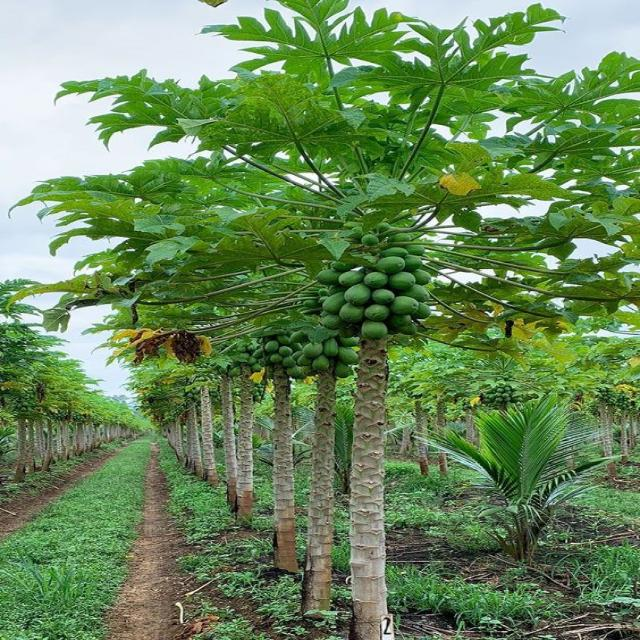Papaya-Tree: (243, 44, 555, 640), (260, 208, 397, 619), (242, 256, 319, 570), (210, 274, 272, 525)
